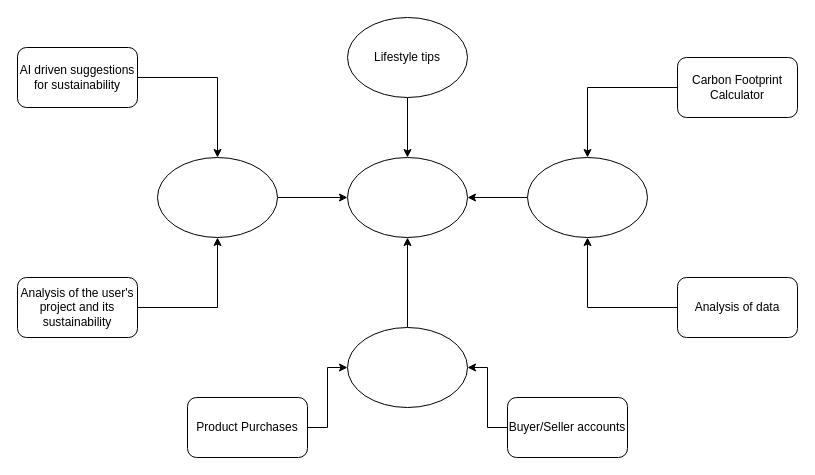
Image size: 815x475. Some labels were removed from this diagram. Each missing label, with the box of its shape:
EcoGuide AI: (156, 156, 278, 238)
EcoSure: (526, 156, 648, 238)
GreenHub: (346, 156, 468, 238)
Marketplace for eco-friendly products: (346, 326, 468, 408)
